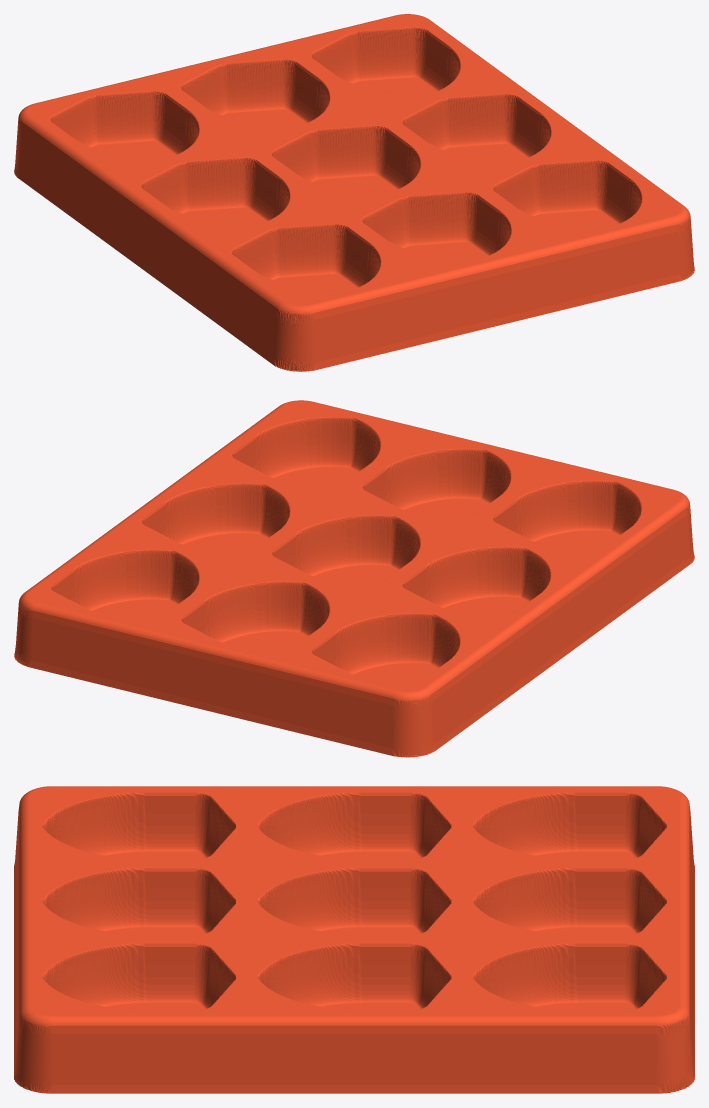
Rendered from mold.glb.
3 views of the same model, one above another, from view 1: azimuth 30°, elevation 25°; view 2: azimuth 150°, elevation 25°; view 3: azimuth 270°, elevation 25° (orthographic). The views are drawn at different scales.
Visible parts, largest first — view 1: geometry_0; view 2: geometry_0; view 3: geometry_0.
Boxes of the visible parts, box(x1,y1,x2,y2) form: geometry_0: box(14, 14, 694, 371); geometry_0: box(14, 400, 694, 757); geometry_0: box(14, 786, 694, 1093).
Bounding box in the file's own units: 0.1339 × 0.0185 × 0.1595.
